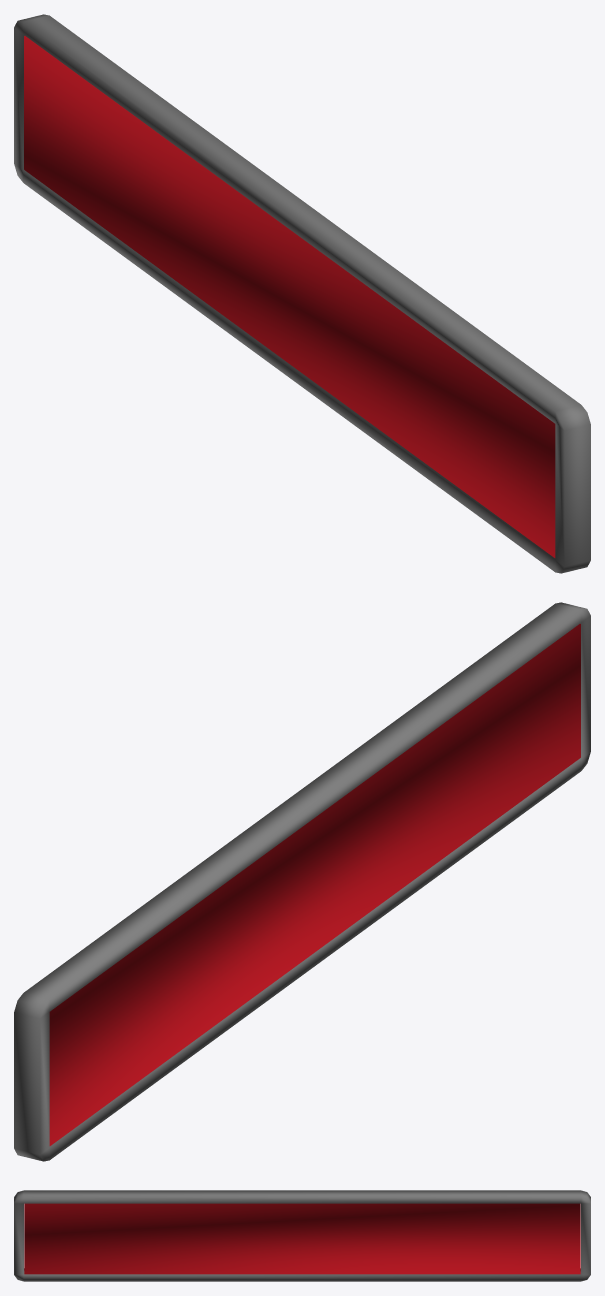
The model's file is EnemyHealthDisplay.fbx.
The picture shows the model from 3 angles, top to bottom: view 1: azimuth 30°, elevation 25°; view 2: azimuth 150°, elevation 25°; view 3: azimuth 270°, elevation 25°; orthographic projection. The views are drawn at different scales.
Visible parts, largest first — view 1: Cube; view 2: Cube; view 3: Cube.
Boxes of the visible parts, x1,y1,x2,y2 form: Cube: (14,14,590,573); Cube: (14,602,590,1161); Cube: (14,1190,590,1281).
Size of the model in its own units: 33.98 by 200 by 1239.
